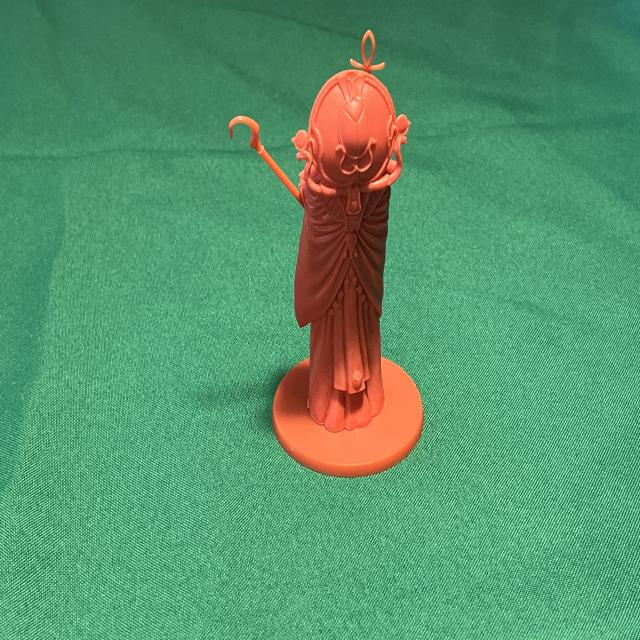amon: (224, 21, 430, 482)
